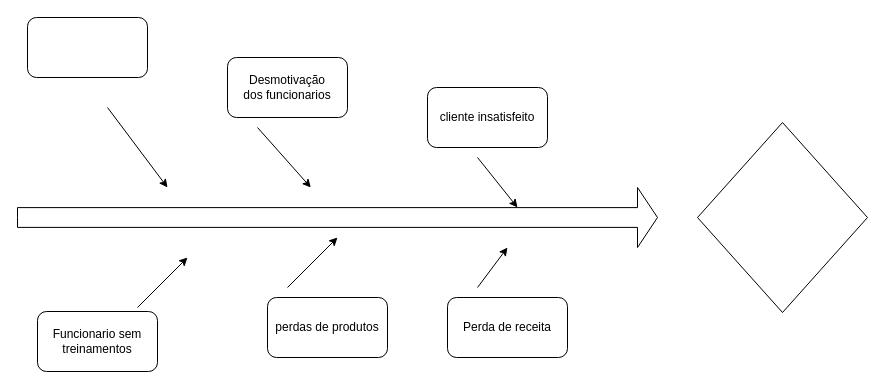
The diagram is 885 pixels wide and 389 high, and some of its shapes have lost their labels. Here are the shapes that lost their labels. From the top down, the box of each, then its label:
(26, 16, 148, 78): negligencia desorganização
(696, 122, 868, 312): Estoque sem gerenciamento
